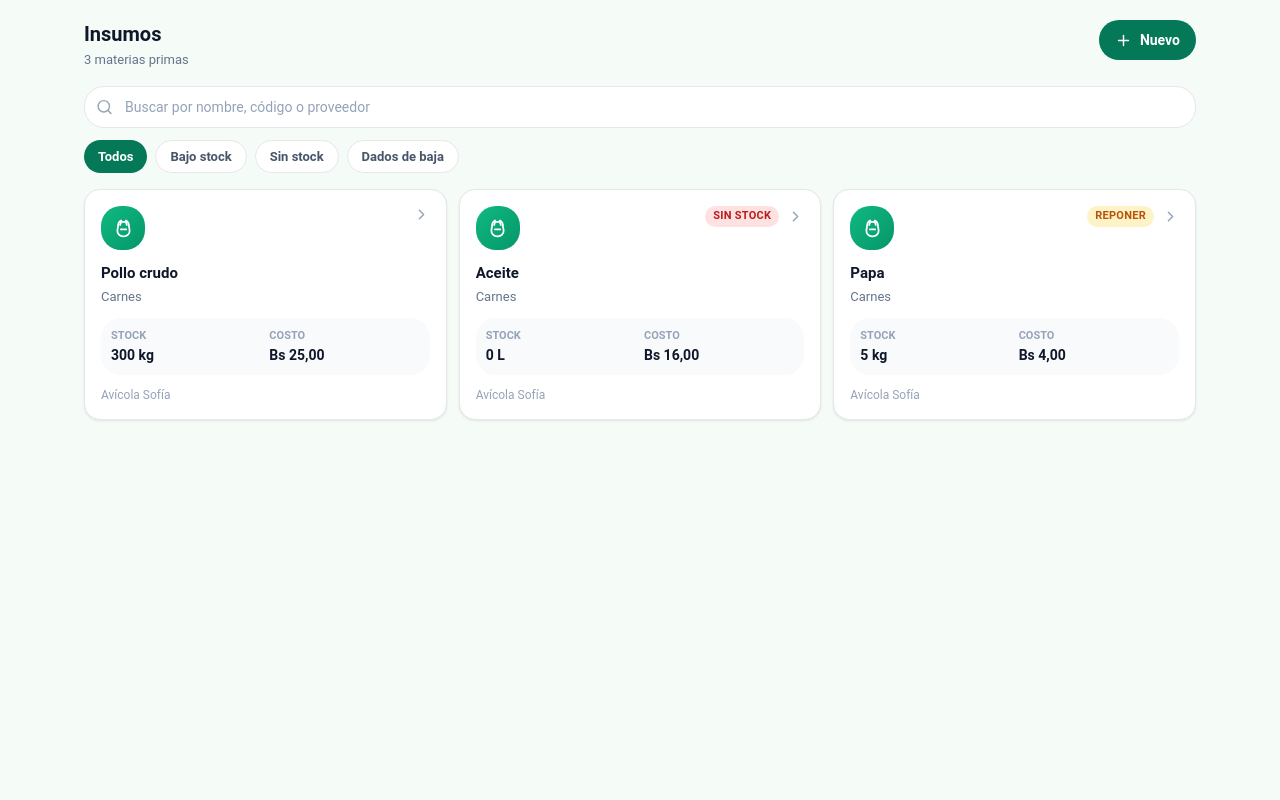
Test: Belleza y los demás rubros: igual que antes › el detalle y el formulario siguen con el stock y el punto de reorden
The image size is (1280, 800).
Click the button "Pollo crudo Carnes Stock 300 kg Costo Bs 25,00 Avícola Sofía": point(123, 228) left=84, top=189, right=447, bottom=420
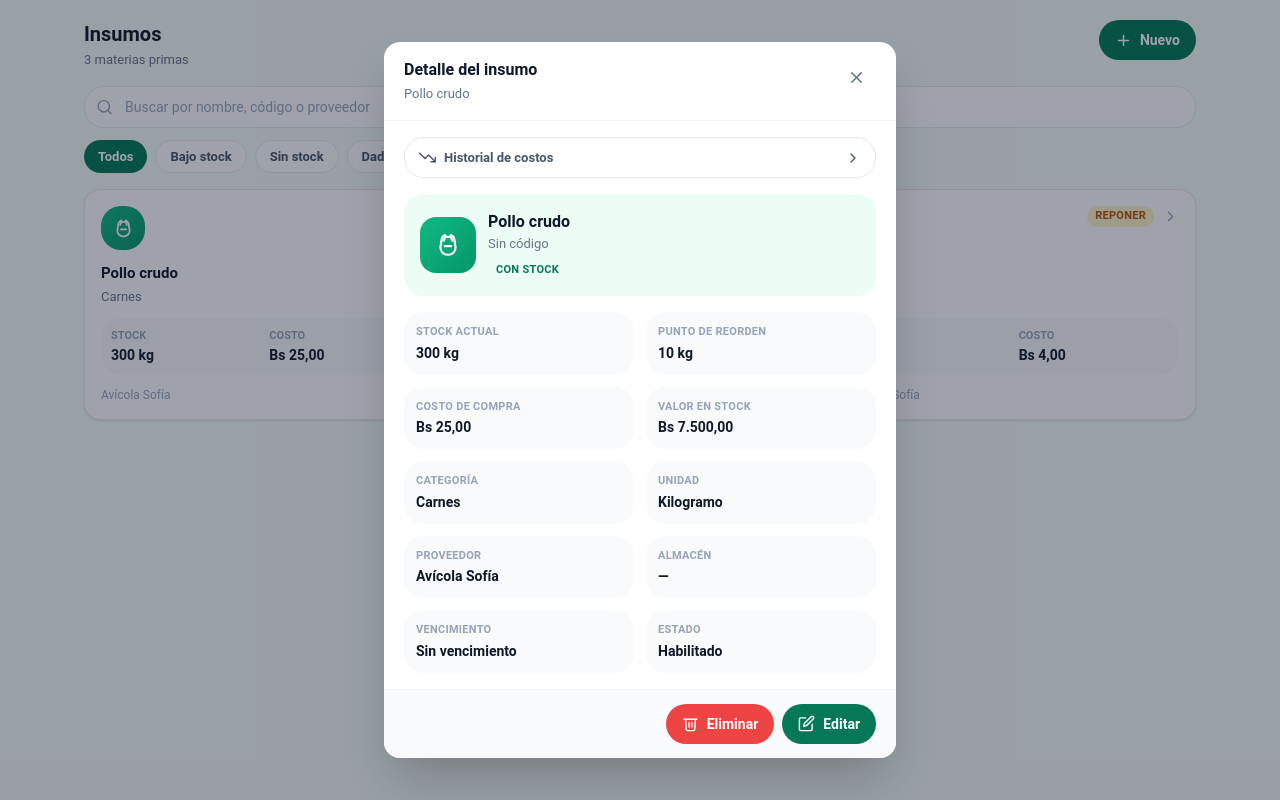
Now the text "Stock actual" is shown, box left=416, top=325, right=499, bottom=338
Now the text "Punto de reorden" is shown, box left=658, top=325, right=766, bottom=338
Now the text "Valor en stock" is shown, box left=658, top=400, right=751, bottom=413
Click the button "Editar": point(829, 724) left=782, top=704, right=876, bottom=744
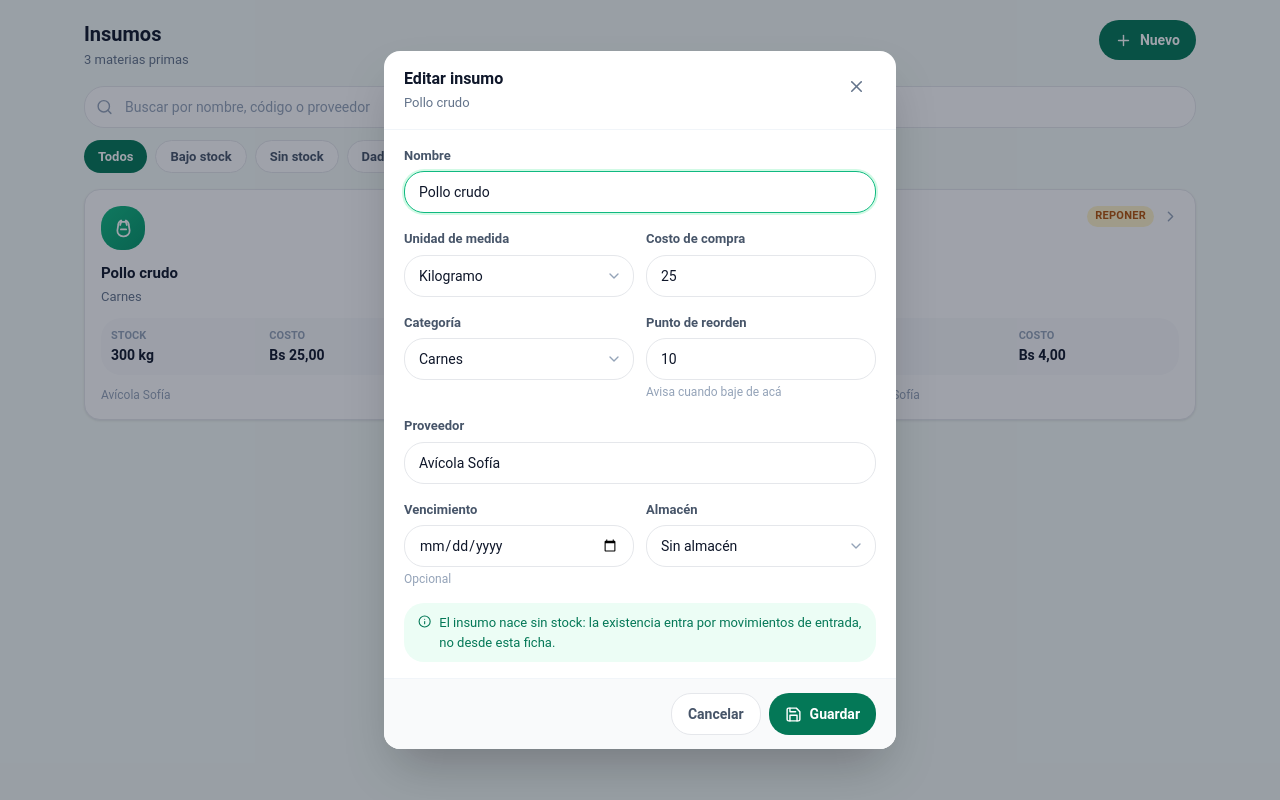
Now the text "Punto de reorden" is shown, box left=646, top=314, right=747, bottom=330
Now the text "nace sin stock" is shown, box left=439, top=615, right=861, bottom=650
